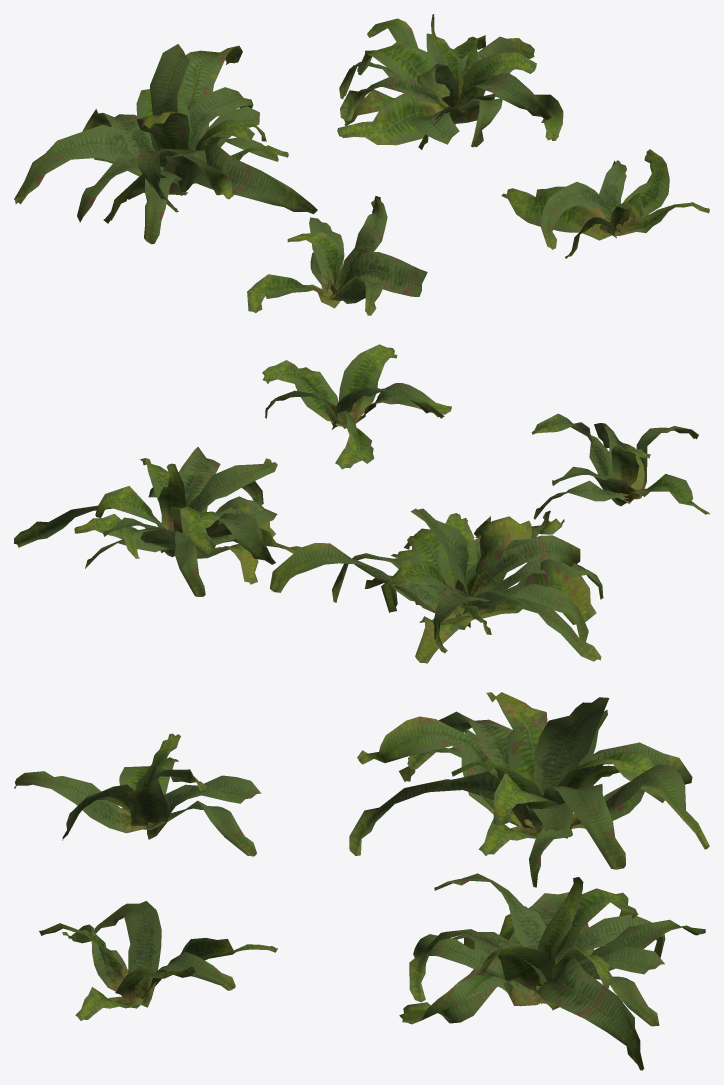
Rendered from fern_02.glb.
3 renders of one model, top to bottom at view 1: azimuth 30°, elevation 25°; view 2: azimuth 150°, elevation 25°; view 3: azimuth 270°, elevation 25°, orthographic. The views are drawn at different scales.
Visible parts, largest first — view 1: fern_02_b, fern_02_c, fern_02_d, fern_02_a; view 2: fern_02_b, fern_02_c, fern_02_d, fern_02_a; view 3: fern_02_b, fern_02_c, fern_02_a, fern_02_d.
Boxes of the visible parts, x1,y1,x2,y2 form: fern_02_b: (14,44,317,244); fern_02_c: (337,14,563,149); fern_02_d: (501,149,709,258); fern_02_a: (247,196,427,315); fern_02_b: (270,508,603,663); fern_02_c: (14,447,301,596); fern_02_d: (262,344,451,469); fern_02_a: (531,413,709,519); fern_02_b: (349,692,709,887); fern_02_c: (399,873,705,1070); fern_02_a: (14,733,261,856); fern_02_d: (39,901,277,1020).
Size of the model in its own units: 1.97 by 0.4277 by 1.72.
1 material, 1 textured.
